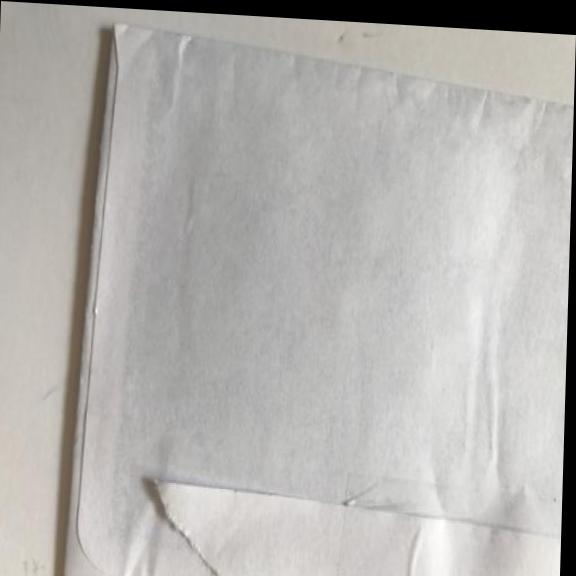Kertas: (51, 13, 576, 576)
